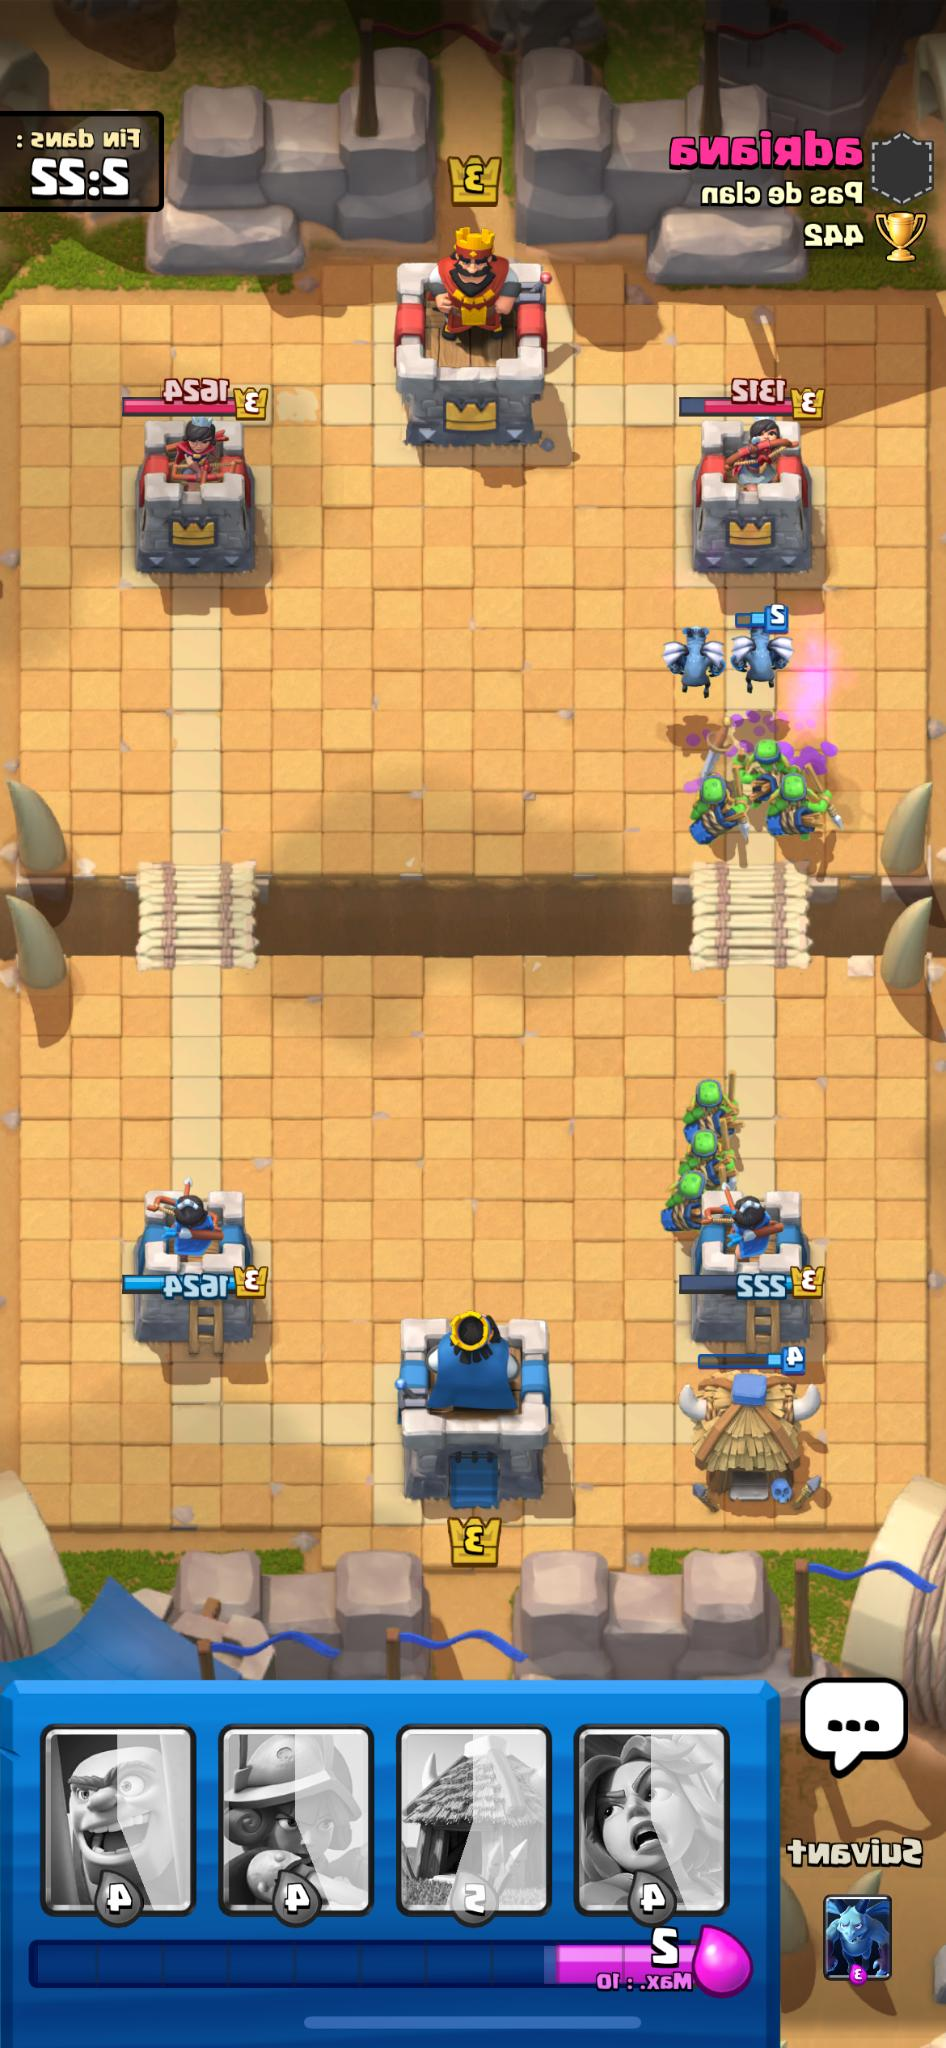gargouille: (728, 610, 789, 699), (666, 607, 717, 703)
gobelin_lances: (651, 1161, 728, 1238), (672, 1074, 753, 1147), (662, 1134, 746, 1196), (767, 767, 828, 842), (690, 771, 737, 850), (741, 737, 796, 802)
